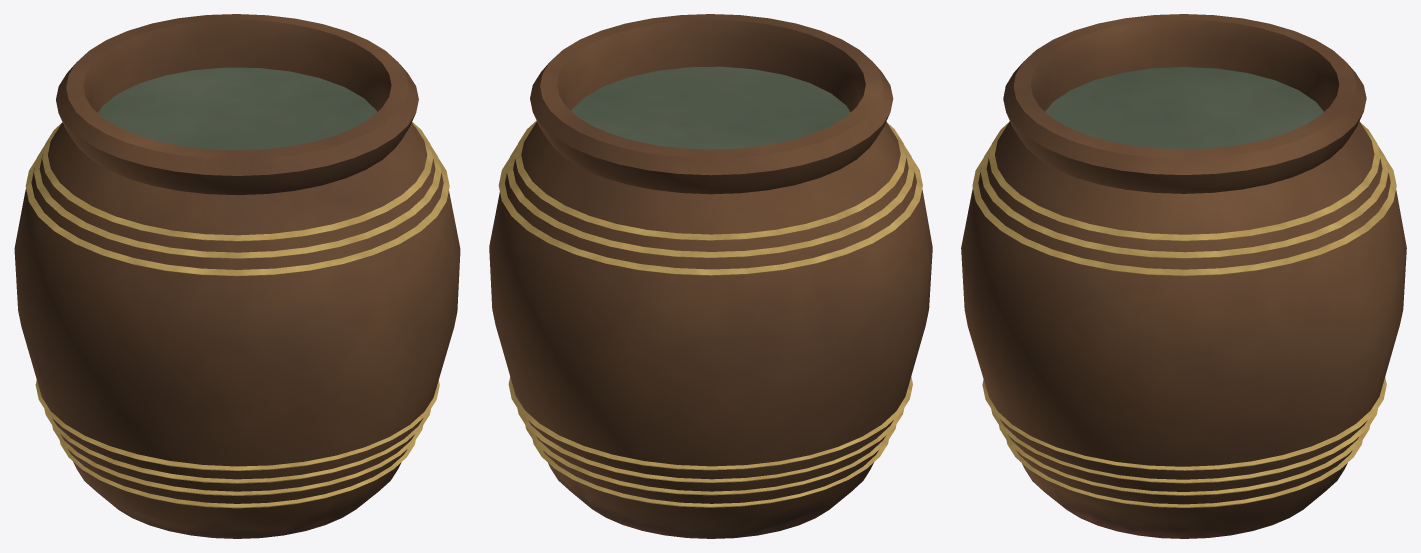
Rendered from DragonJar.fbx.
The picture shows the model from 3 angles, left to right: view 1: azimuth 30°, elevation 25°; view 2: azimuth 150°, elevation 25°; view 3: azimuth 270°, elevation 25°; orthographic projection.
Parts seen in each view (by area): view 1: DragonJar, DragonJar_Water; view 2: DragonJar, DragonJar_Water; view 3: DragonJar, DragonJar_Water.
Part boxes in pixels (box(x1,y1,x2,y2)): DragonJar: box(14, 14, 460, 538); DragonJar_Water: box(98, 67, 377, 150); DragonJar: box(489, 14, 932, 538); DragonJar_Water: box(571, 66, 850, 149); DragonJar: box(961, 14, 1406, 538); DragonJar_Water: box(1045, 67, 1323, 149).
Size of the model in its own units: 72.65 by 71.59 by 72.85.
Materials: 1 (1 with a texture image).
